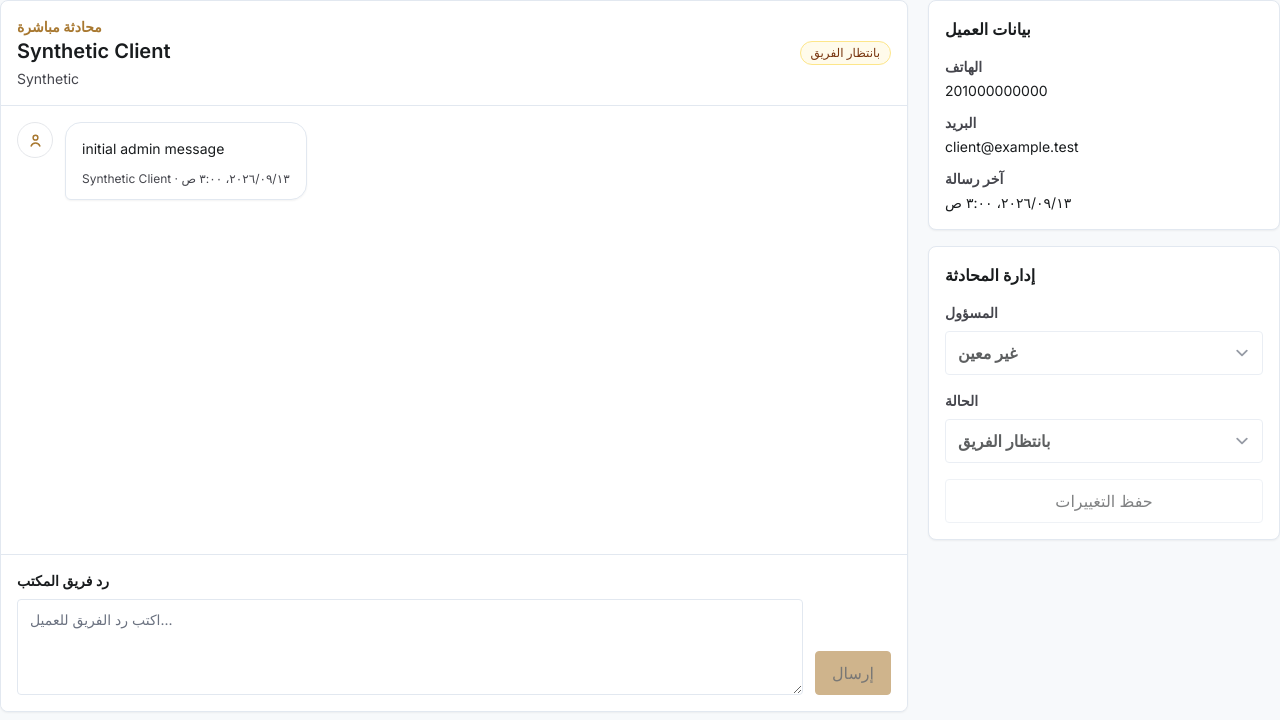
Test: conversation poll consistency › keeps an admin reply when an older in-flight poll resolves afterward
Type "new staff reply" into the text box with placeholder "اكتب رد الفريق للعميل..." at (410, 647), box [17,599,803,695]
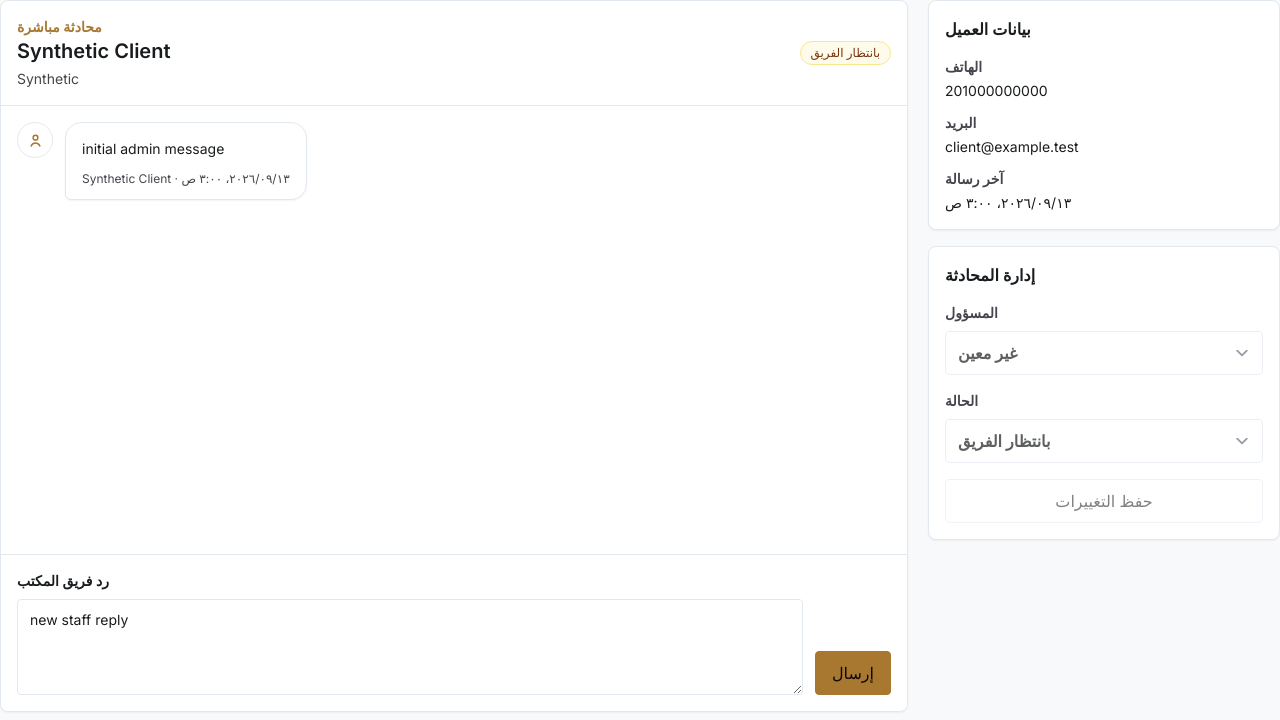
Submit the form with placeholder "اكتب رد الفريق للعميل...", box [1,554,907,711]
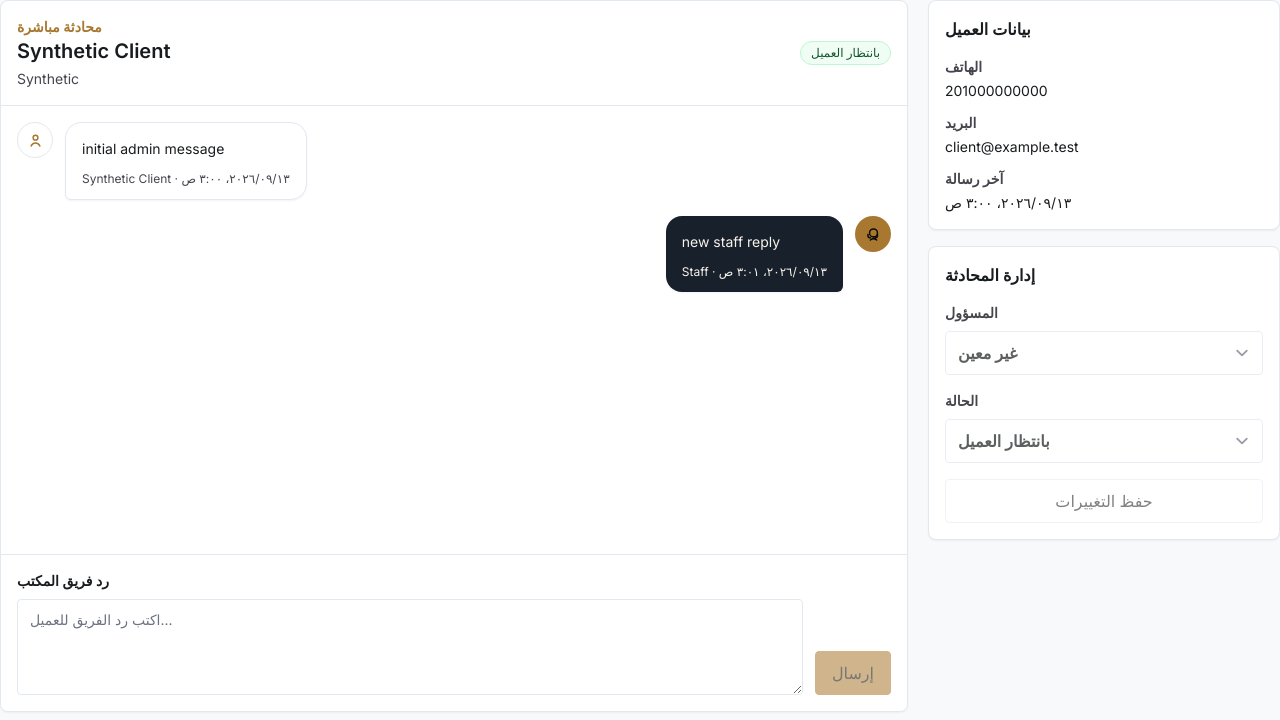
expect the text "new staff reply" is shown: met, box [682,233,780,250]
